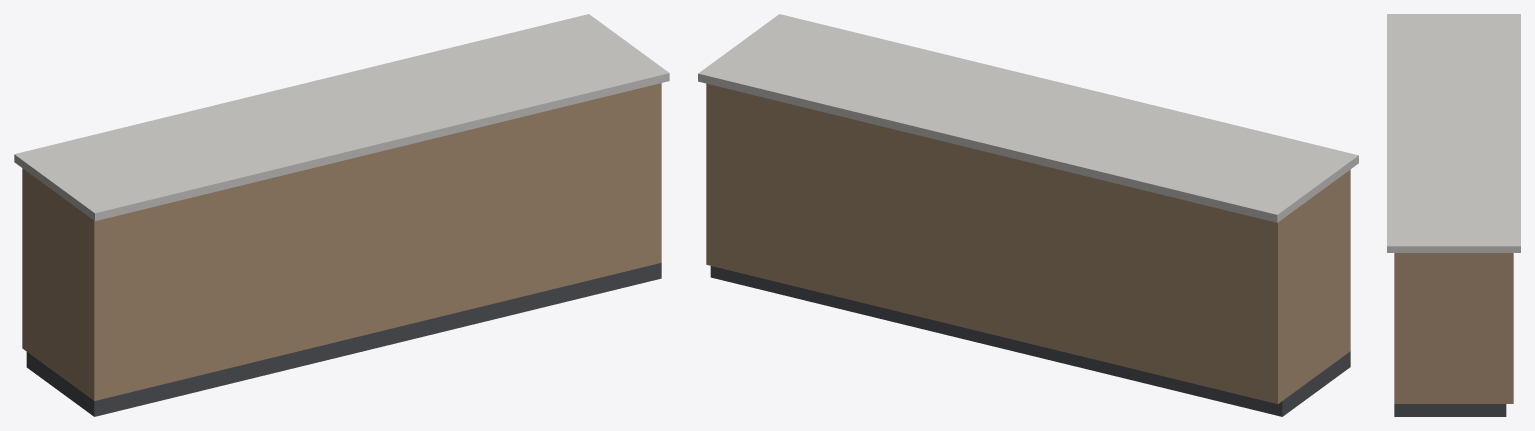
File: 1754-Furniture-interiors-counter.glb
The picture shows the model from 3 angles, left to right: view 1: azimuth 30°, elevation 25°; view 2: azimuth 150°, elevation 25°; view 3: azimuth 270°, elevation 25°; orthographic projection. The views are drawn at different scales.
Visible parts, largest first — view 1: Furniture (interiors)/counter; view 2: Furniture (interiors)/counter; view 3: Furniture (interiors)/counter.
Part boxes in pixels (box(x1,y1,x2,y2)): Furniture (interiors)/counter: box(14, 14, 669, 416); Furniture (interiors)/counter: box(698, 14, 1358, 416); Furniture (interiors)/counter: box(1387, 14, 1520, 416).
Size of the model in its own units: 3.04 by 1.05 by 0.74.
